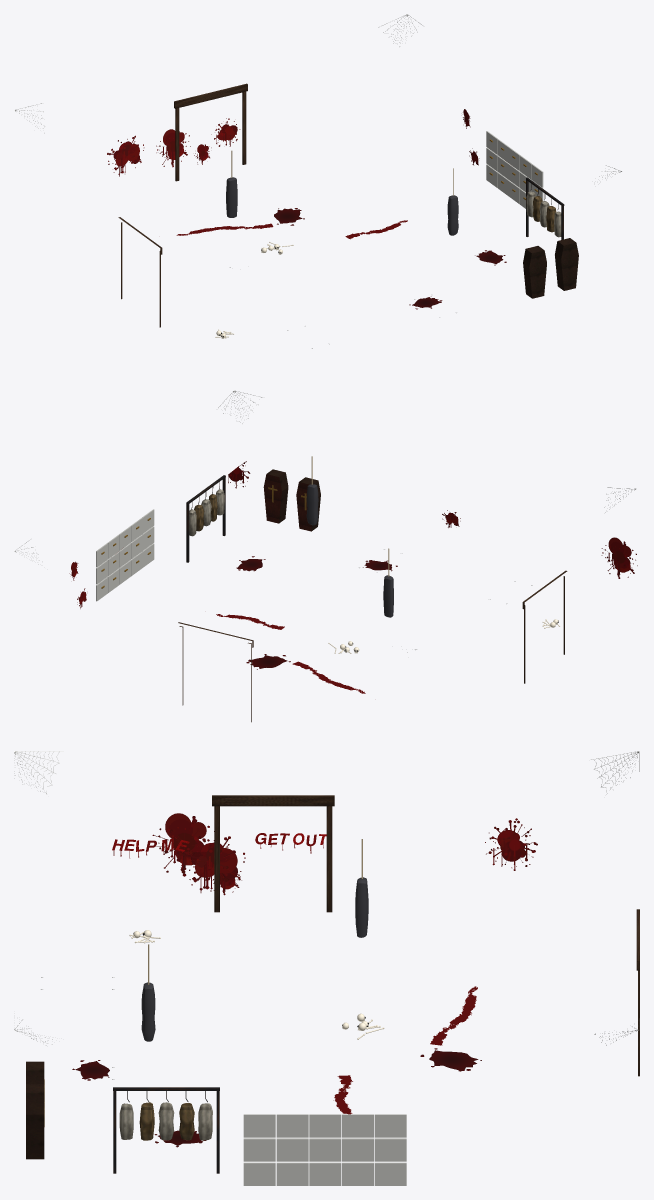
File: dark_morgue_v13b.glb
3 views of the same model, one above another, from view 1: azimuth 30°, elevation 25°; view 2: azimuth 150°, elevation 25°; view 3: azimuth 270°, elevation 25° (orthographic). The views are drawn at different scales.
Visible parts, largest first — view 1: dark_morgue; view 2: dark_morgue; view 3: dark_morgue.
Part boxes in pixels (box(x1,y1,x2,y2)): dark_morgue: box(14, 14, 621, 348); dark_morgue: box(14, 390, 637, 722); dark_morgue: box(14, 751, 639, 1185).
Size of the model in its own units: 19.53 by 5.02 by 17.59.
Materials: 21 (16 with a texture image).
